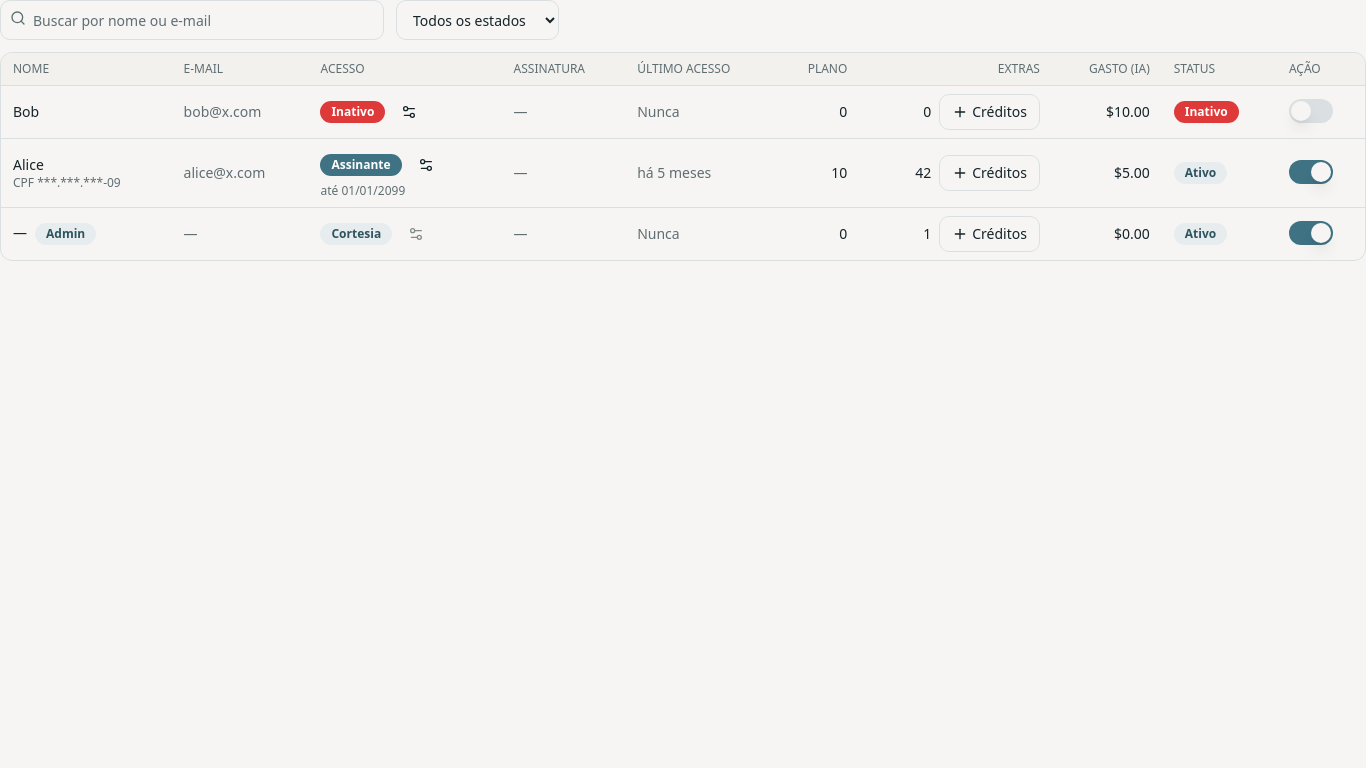
UsersTable › does not deactivate when the confirmation is cancelled
The width and height of the screenshot is (1366, 768).
Click the switch named "Ativar ou inativar Alice" at (1311, 172), box 1289,160 -> 1333,184
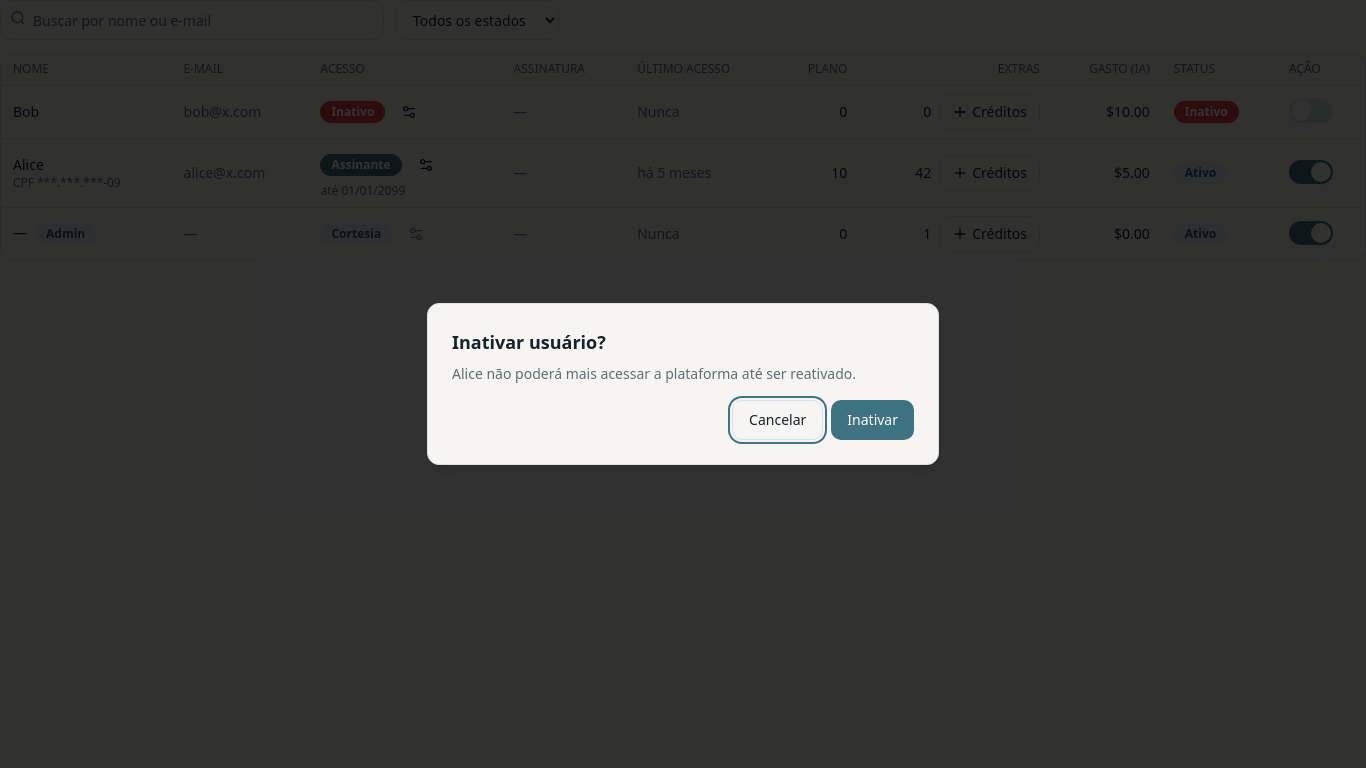
Click the button "Cancelar" at (778, 420), box 732,400 -> 823,440
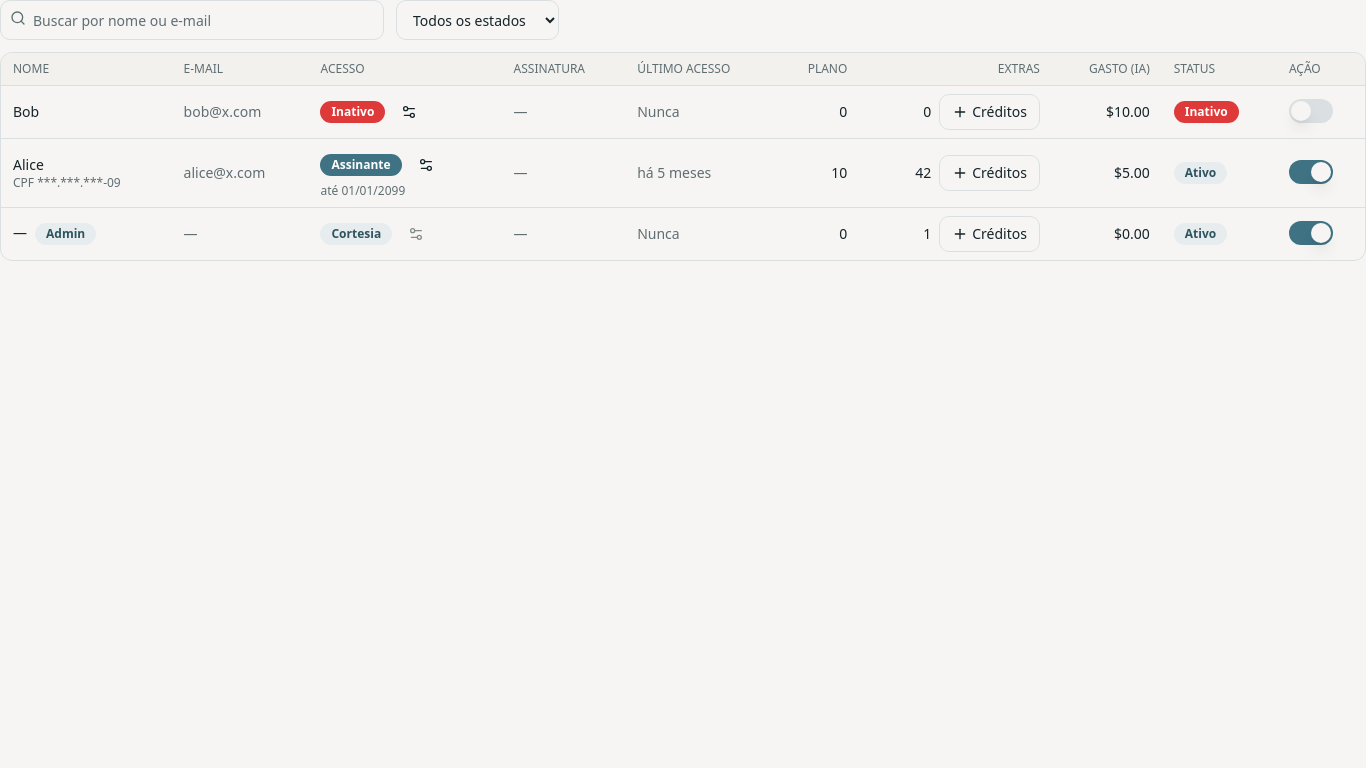
Check: the heading "Inativar usuário?" is gone
